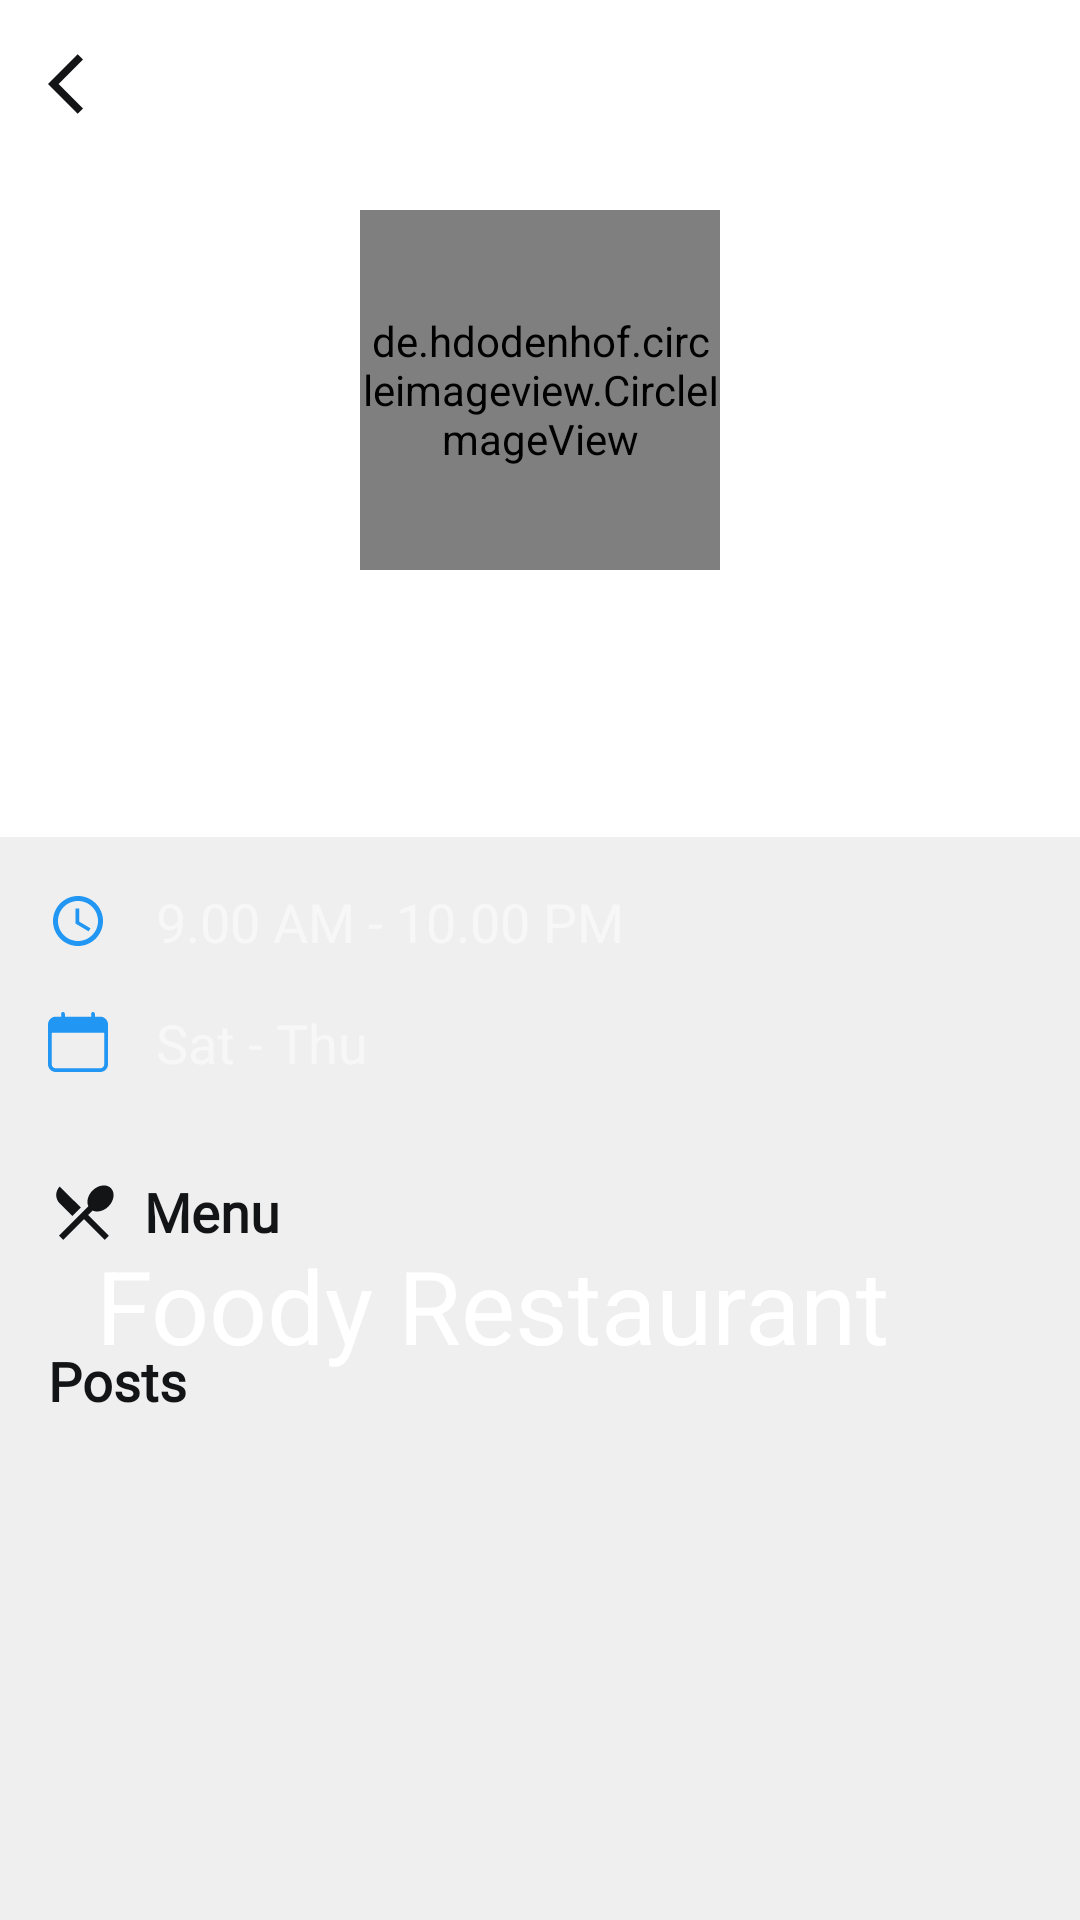

Point at icon controls on the screen. Image size 1080 x 1920, points as (x,y).
back: (65,84)
calendar: (78,1042)
time: (78,921)
